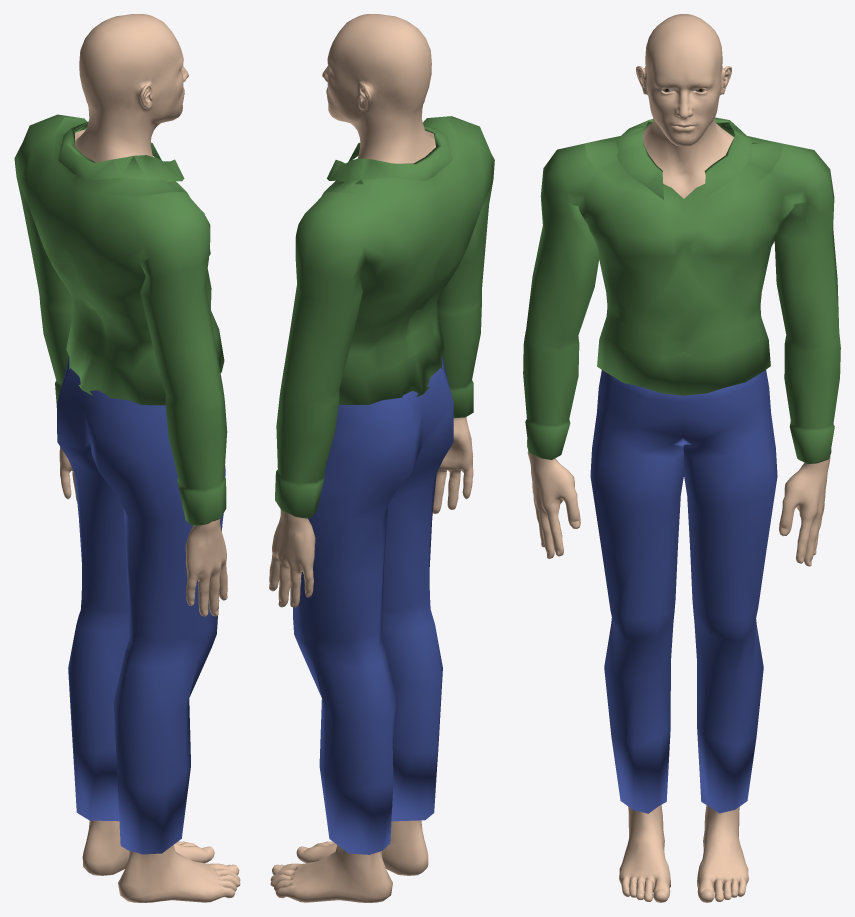
Rendered from walk_closed_arm.dae.
3 views of the same model, side by side, from view 1: azimuth 30°, elevation 25°; view 2: azimuth 150°, elevation 25°; view 3: azimuth 270°, elevation 25° (orthographic). The views are drawn at different scales.
Parts seen in each view (by area): view 1: human; view 2: human; view 3: human.
Boxes of the visible parts, x1,y1,x2,y2 form: human: (14,14,240,902); human: (269,14,494,902); human: (523,14,840,902).
Size of the model in its own units: 0.3372 by 0.5881 by 1.72.
